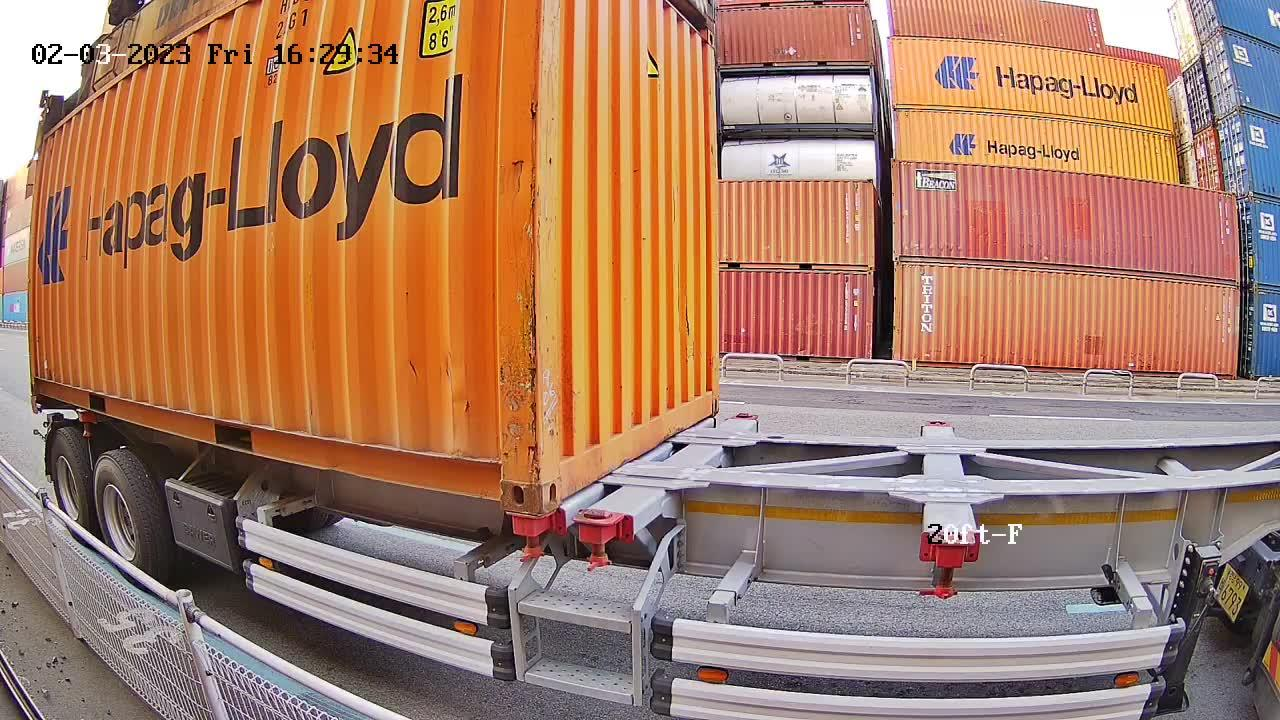Chassis: (575, 414, 759, 525)
Cone: (577, 510, 624, 569), (506, 510, 555, 562)
Hole_L: (538, 439, 580, 514)
Hole_R: (470, 437, 541, 514), (697, 371, 721, 421)
Tire: (94, 458, 149, 582), (51, 432, 89, 534)
